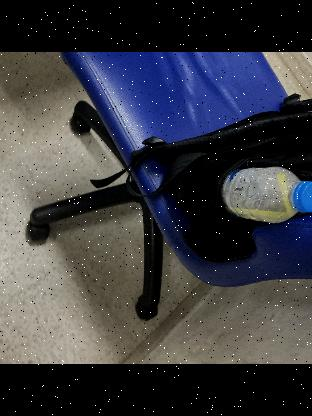Plastic Bottle: (217, 166, 312, 226)
